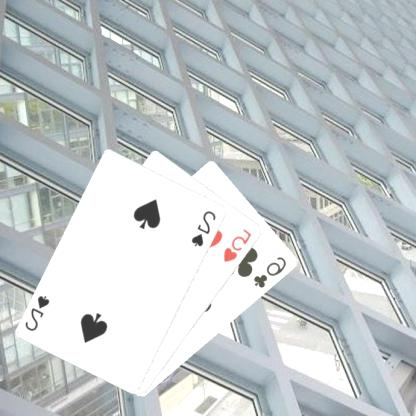2S: (191, 207, 220, 248), (24, 292, 53, 333)
5H: (222, 226, 255, 263)
6C: (253, 254, 290, 289)
